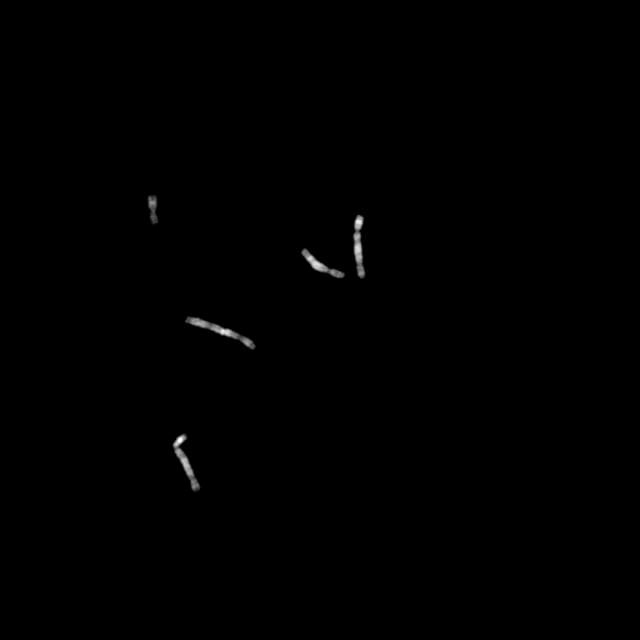chromosome: (184, 316, 256, 349), (173, 435, 201, 491), (301, 248, 345, 278), (354, 215, 364, 278), (148, 196, 160, 224)
